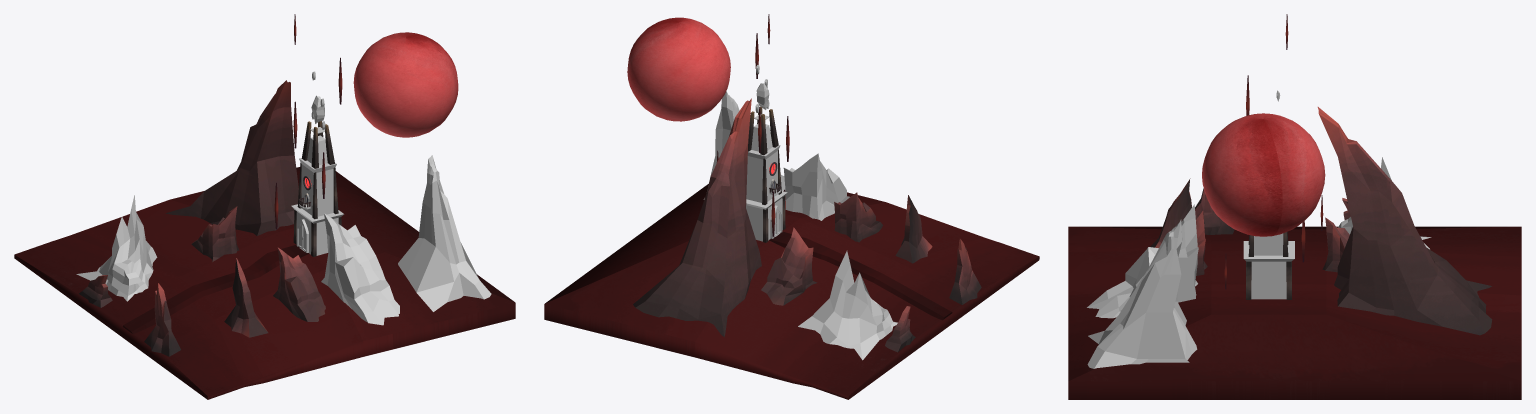
File: underworld.fbx
The picture shows the model from 3 angles, left to right: view 1: azimuth 30°, elevation 25°; view 2: azimuth 150°, elevation 25°; view 3: azimuth 270°, elevation 25°; orthographic projection. The views are drawn at different scales.
Visible parts, largest first — view 1: ground03, moon1, pasted__pCube40, pasted__pCube38, polySurface17, rock02, rock09, polySurface18, tower, path1, tower_guards, shards_b; view 2: ground03, pasted__pCube40, moon1, polySurface18, rock02, rock09, polySurface17, tower, path1, tower_guards, pasted__pCube38, shards_b; view 3: ground03, pasted__pCube40, moon1, pasted__pCube38, polySurface17, tower, rock09, rock02, tower_guards, shards_b.
Boxes of the visible parts, x1,y1,x2,y2 form: ground03: (14, 167, 515, 399); moon1: (353, 32, 458, 137); pasted__pCube40: (165, 80, 298, 235); pasted__pCube38: (398, 155, 491, 311); polySurface17: (321, 213, 399, 325); rock02: (191, 206, 325, 321); rock09: (79, 258, 268, 356); polySurface18: (76, 195, 157, 301); tower: (291, 127, 343, 255); path1: (123, 244, 308, 333); tower_guards: (293, 121, 341, 256); shards_b: (274, 14, 342, 229); ground03: (544, 184, 1039, 399); pasted__pCube40: (633, 98, 761, 337); moon1: (627, 17, 730, 121); polySurface18: (798, 250, 897, 360); rock02: (761, 192, 882, 305); rock09: (885, 195, 981, 352); polySurface17: (783, 153, 849, 220); tower: (746, 114, 787, 241); path1: (769, 231, 952, 320); tower_guards: (748, 106, 785, 242); pasted__pCube38: (703, 91, 785, 199); shards_b: (716, 14, 789, 236); ground03: (1068, 226, 1521, 399); pasted__pCube40: (1317, 107, 1492, 335); moon1: (1202, 113, 1325, 236); pasted__pCube38: (1087, 219, 1197, 368); polySurface17: (1087, 204, 1198, 318); tower: (1243, 233, 1294, 299); rock09: (1150, 178, 1350, 248); rock02: (1196, 211, 1349, 275); tower_guards: (1246, 231, 1291, 299); shards_b: (1224, 14, 1323, 289).
Size of the model in its own units: 96.44 by 76.96 by 98.67.
